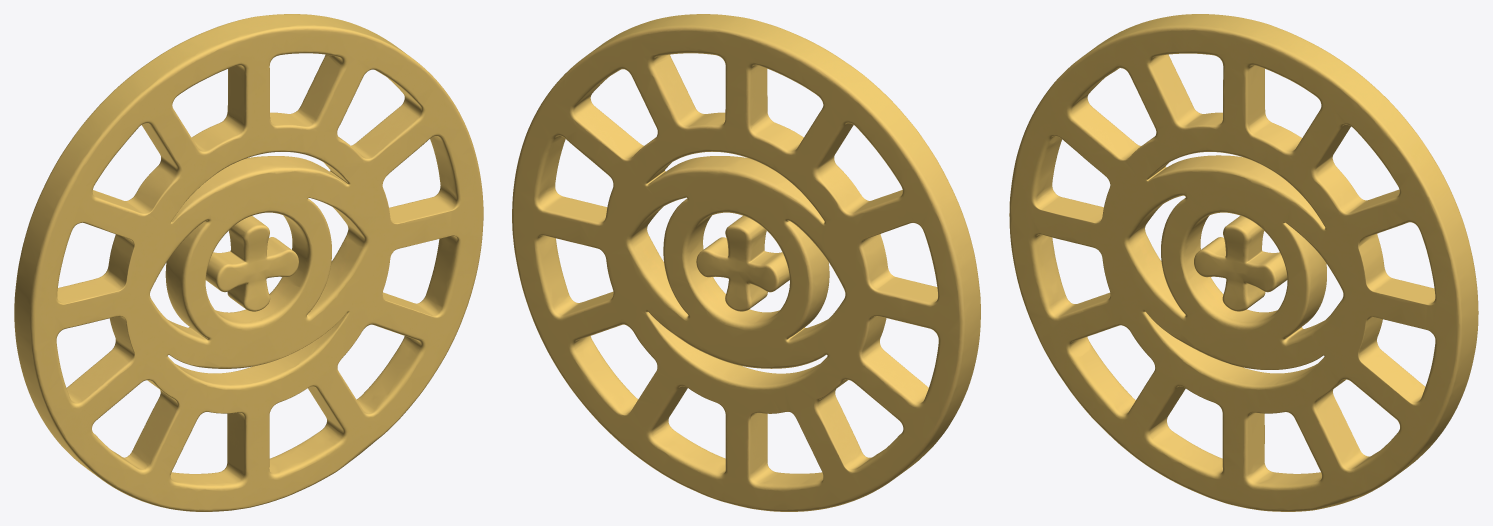
Rendered from emblem.glb.
The picture shows the model from 3 angles, left to right: view 1: azimuth 30°, elevation 25°; view 2: azimuth 150°, elevation 25°; view 3: azimuth 330°, elevation 25°; orthographic projection.
Size of the model in its own units: 1.9 by 1.9 by 0.1432.
1 material, 1 textured.
